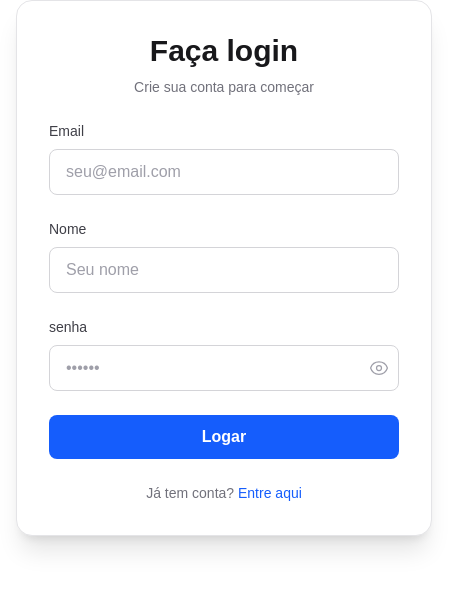
Test: RegisterComponent › should error password when hints the button
Type "xlzthiago@gmail.com" into the field labelled "Email".
click(224, 172); type("xlzthiago@gmail.com")  # box [49,149,399,195]
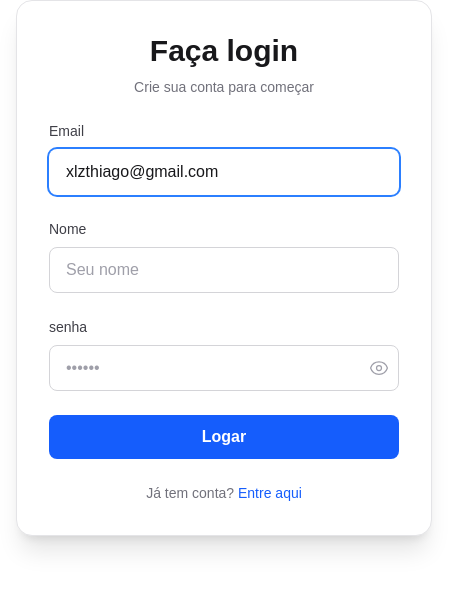
Type "Thiago" into the field labelled "Nome".
click(224, 270); type("Thiago")  # box [49,247,399,293]
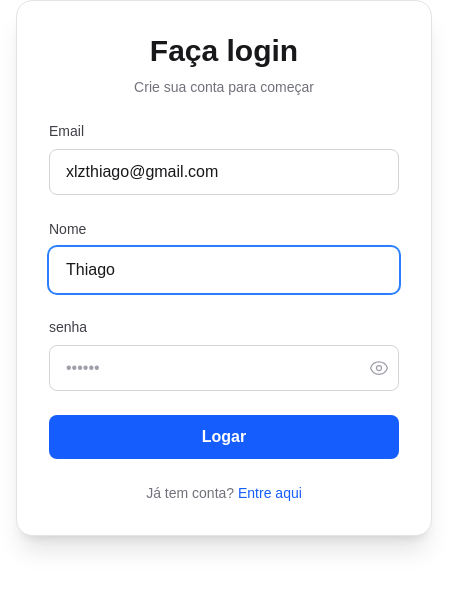
Type "1234" into the password field labelled "senha".
click(224, 368); type("1234")  # box [49,345,399,391]
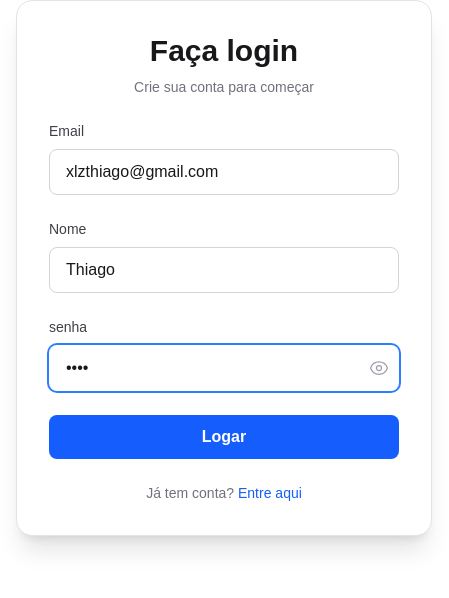
Click the button "Logar".
click(224, 437)  # box [49,415,399,459]
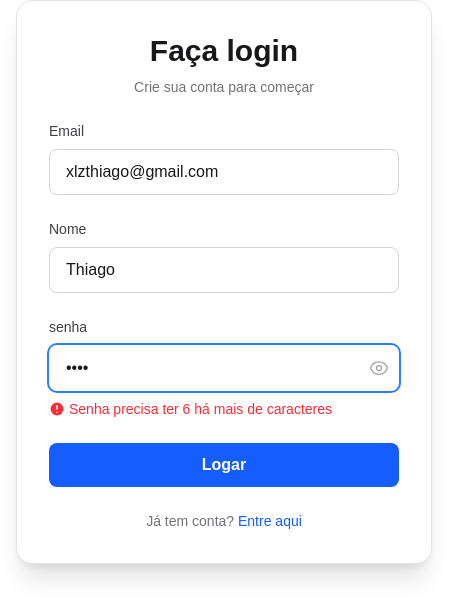
Now the text "Senha precisa ter 6 há mais de caracteres" is shown, box [49,401,332,417]
